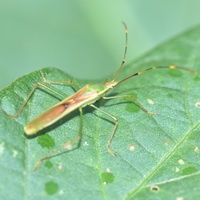insect: (0, 25, 199, 199)
